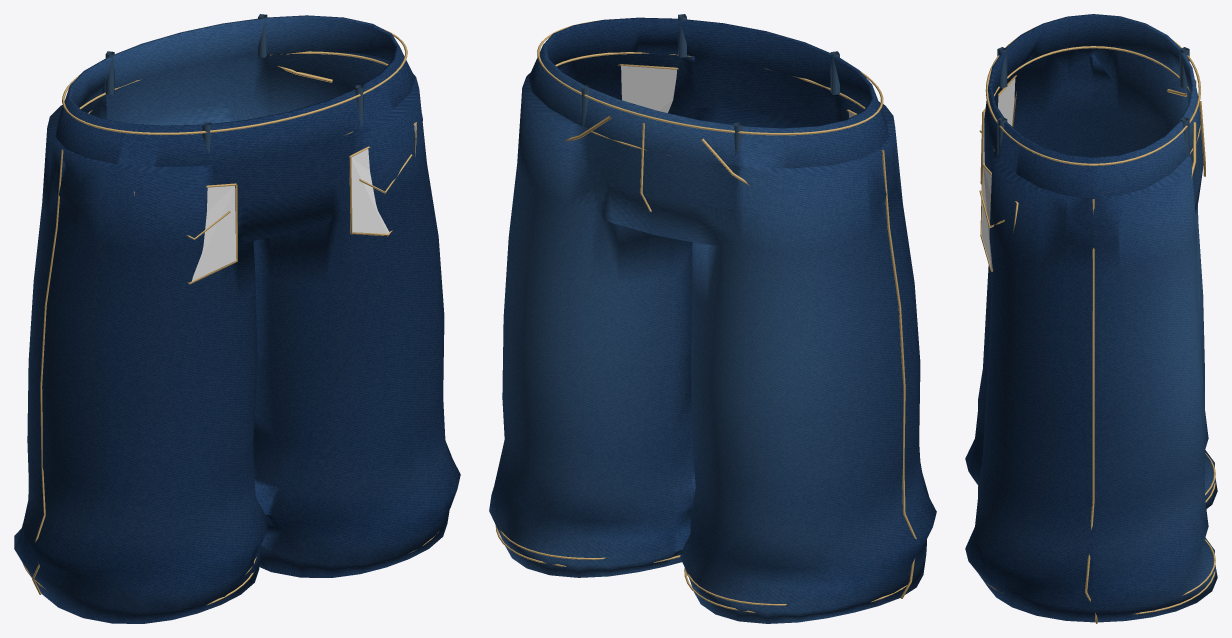
Rendered from BaggyDenim01.fbx.
3 views of the same model, side by side, from view 1: azimuth 30°, elevation 25°; view 2: azimuth 150°, elevation 25°; view 3: azimuth 270°, elevation 25° (orthographic). The views are drawn at different scales.
Visible parts, largest first — view 1: Corpo da jeans, Bolso traseiro -1, Bolso traseiro 1, Pesponto do cós.001, Costura lateral -1; view 2: Corpo da jeans, Bolso traseiro 1, Pesponto do cós.001, Costura lateral -1; view 3: Corpo da jeans, Costura lateral 1, Pesponto do cós.001, Bolso traseiro 1, Bolso traseiro -1, Pesponto do cós.
Part boxes in pixels (x1,y1,x2,y2): Corpo da jeans: (14, 15, 460, 623); Bolso traseiro -1: (192, 186, 236, 280); Bolso traseiro 1: (351, 124, 415, 233); Pesponto do cós.001: (62, 29, 407, 135); Costura lateral -1: (32, 149, 63, 594); Corpo da jeans: (489, 17, 936, 623); Bolso traseiro 1: (621, 65, 676, 112); Pesponto do cós.001: (537, 20, 883, 135); Costura lateral -1: (881, 149, 916, 598); Corpo da jeans: (965, 14, 1217, 622); Costura lateral 1: (1085, 199, 1097, 623); Pesponto do cós.001: (985, 26, 1200, 165); Bolso traseiro 1: (981, 167, 992, 269); Bolso traseiro -1: (983, 78, 1015, 164); Pesponto do cós: (993, 46, 1200, 153).
Bounding box in the file's own units: 107 × 121 × 60.95.
4 materials, 1 textured.
